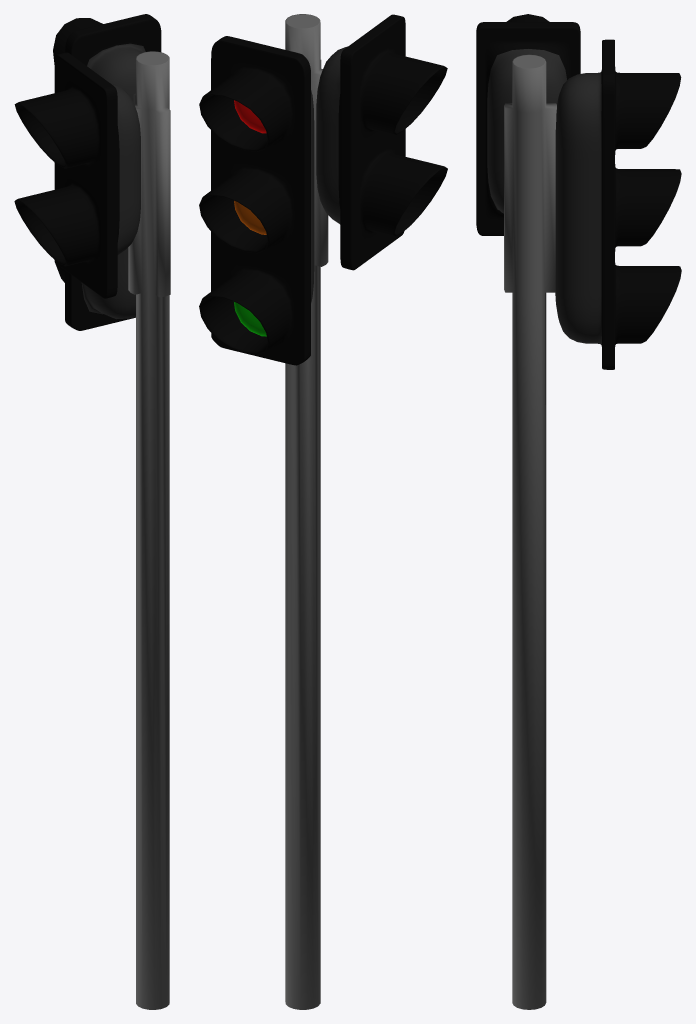
The model's file is Traffic_Lights.obj.
The picture shows the model from 3 angles, left to right: view 1: azimuth 30°, elevation 25°; view 2: azimuth 150°, elevation 25°; view 3: azimuth 270°, elevation 25°; orthographic projection. The views are drawn at different scales.
Visible parts, largest first — view 1: Pole_Cylinder.003, Traffic_Light_2_Cube.014, Traffic_Light_1_Cube.013; view 2: Traffic_Light_1_Cube.013, Pole_Cylinder.003, Traffic_Light_2_Cube.014; view 3: Pole_Cylinder.003, Traffic_Light_1_Cube.013, Traffic_Light_2_Cube.014.
Boxes of the visible parts, box(x1,y1,x2,y2) form: Pole_Cylinder.003: box(128, 51, 170, 1009); Traffic_Light_2_Cube.014: box(14, 52, 140, 298); Traffic_Light_1_Cube.013: box(53, 14, 161, 330); Traffic_Light_1_Cube.013: box(199, 36, 314, 365); Pole_Cylinder.003: box(285, 14, 328, 1009); Traffic_Light_2_Cube.014: box(316, 14, 447, 270); Pole_Cylinder.003: box(504, 54, 556, 1009); Traffic_Light_1_Cube.013: box(555, 39, 681, 369); Traffic_Light_2_Cube.014: box(476, 14, 580, 235).
Bounding box in the file's own units: 0.5434 × 2.8 × 0.5512.
